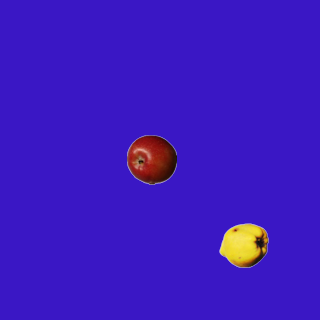Apple Braeburn: (126, 134, 176, 184)
Quince: (218, 220, 268, 270)
